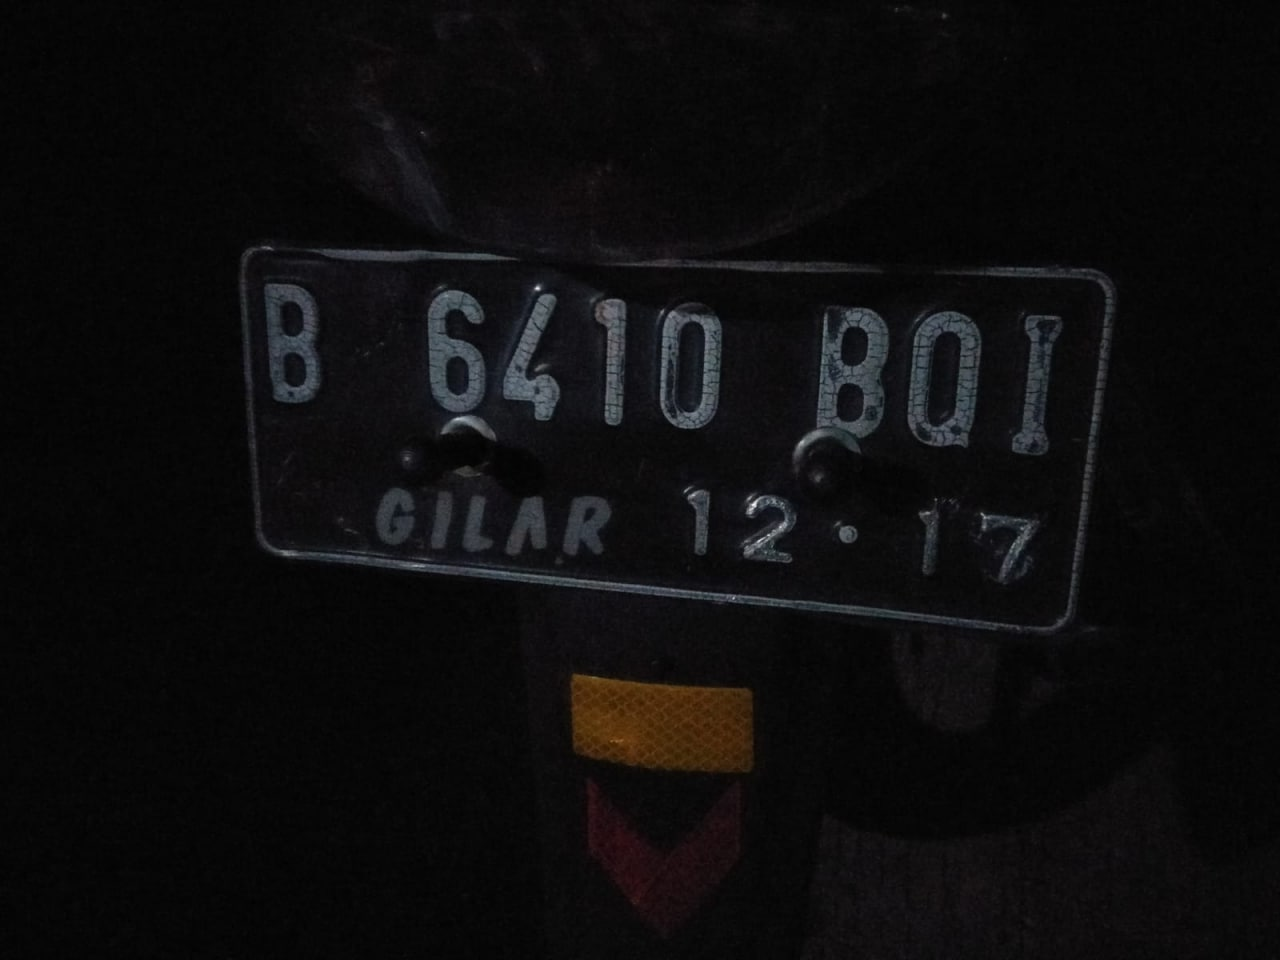plate: (235, 245, 1077, 618)
